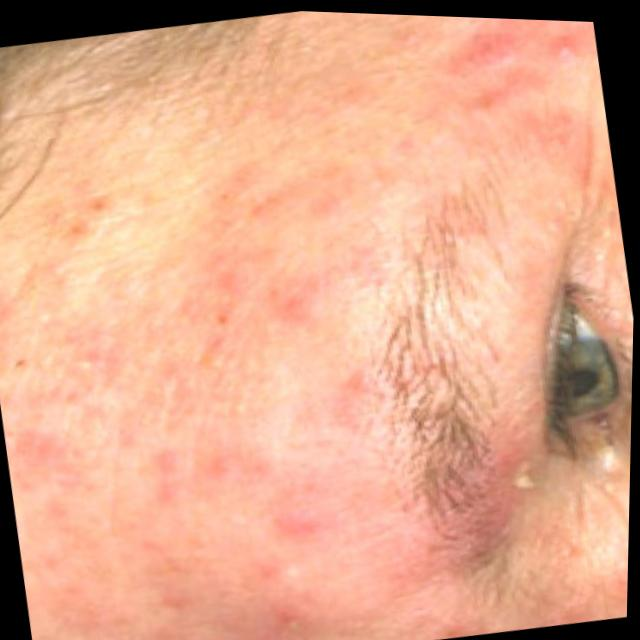Rosacea: (0, 1, 640, 640)
